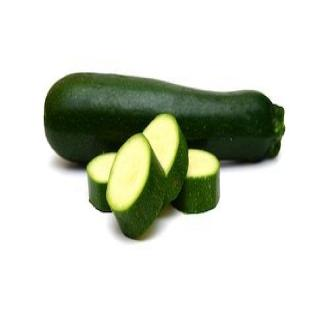Zucchini: (45, 74, 284, 163), (106, 134, 165, 238), (143, 114, 188, 202), (174, 149, 219, 213), (87, 153, 115, 212)
